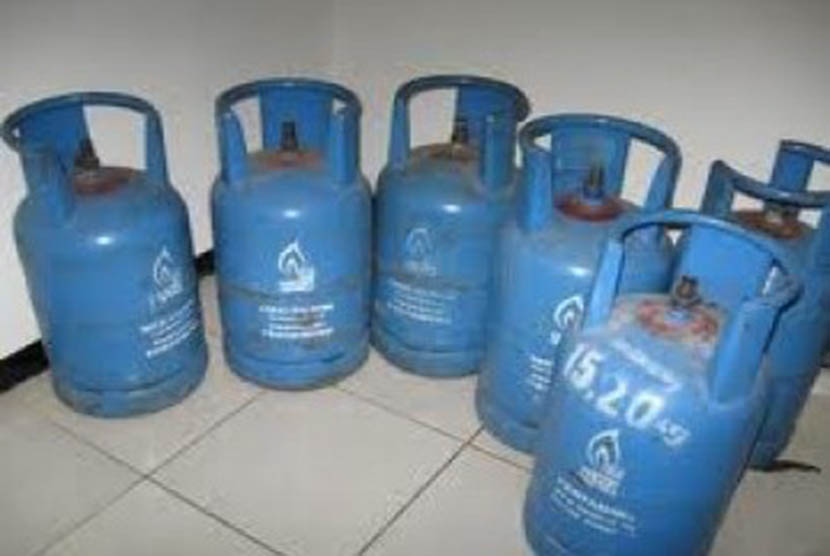blue_gas: (526, 214, 799, 556), (478, 102, 674, 457), (1, 92, 214, 417), (211, 74, 379, 390), (680, 135, 830, 463), (379, 70, 528, 381)
